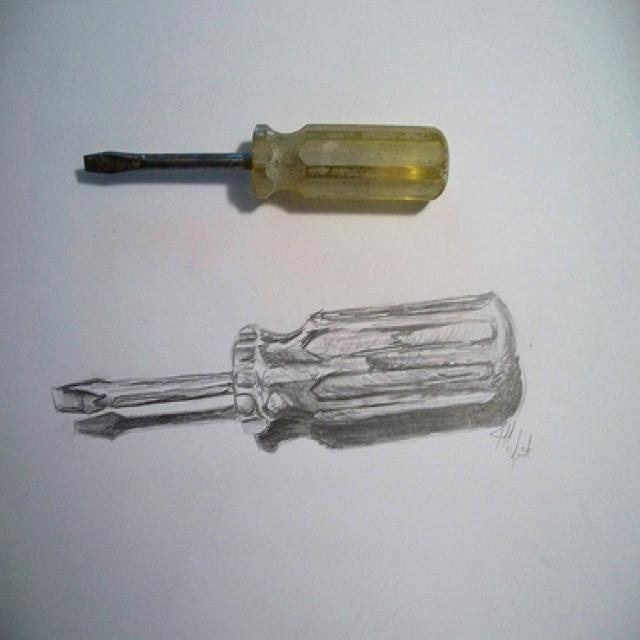screwdriver: (74, 109, 466, 228)
